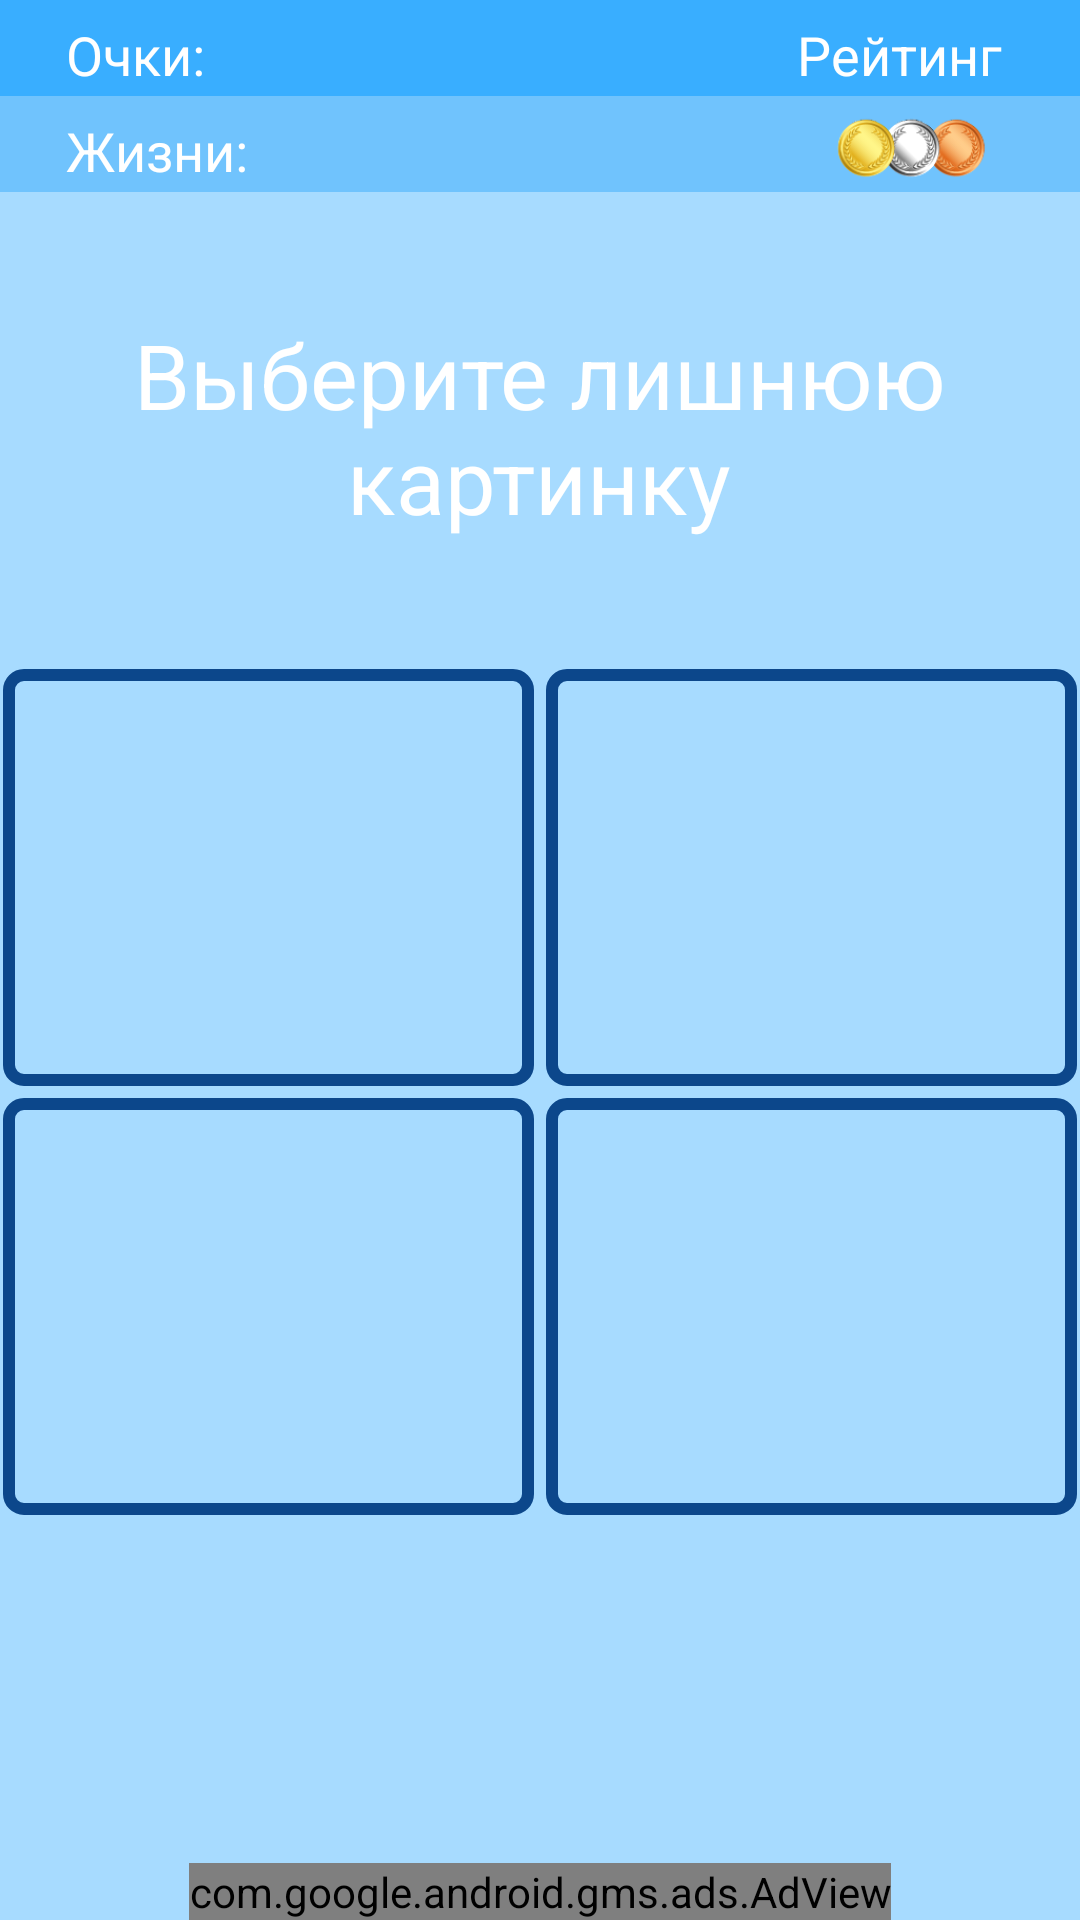

Icon bounding boxes for this 1080 × 1920 phone screenshot, format region(x1, y1, x2, y2):
medals: region(837, 119, 985, 177)
